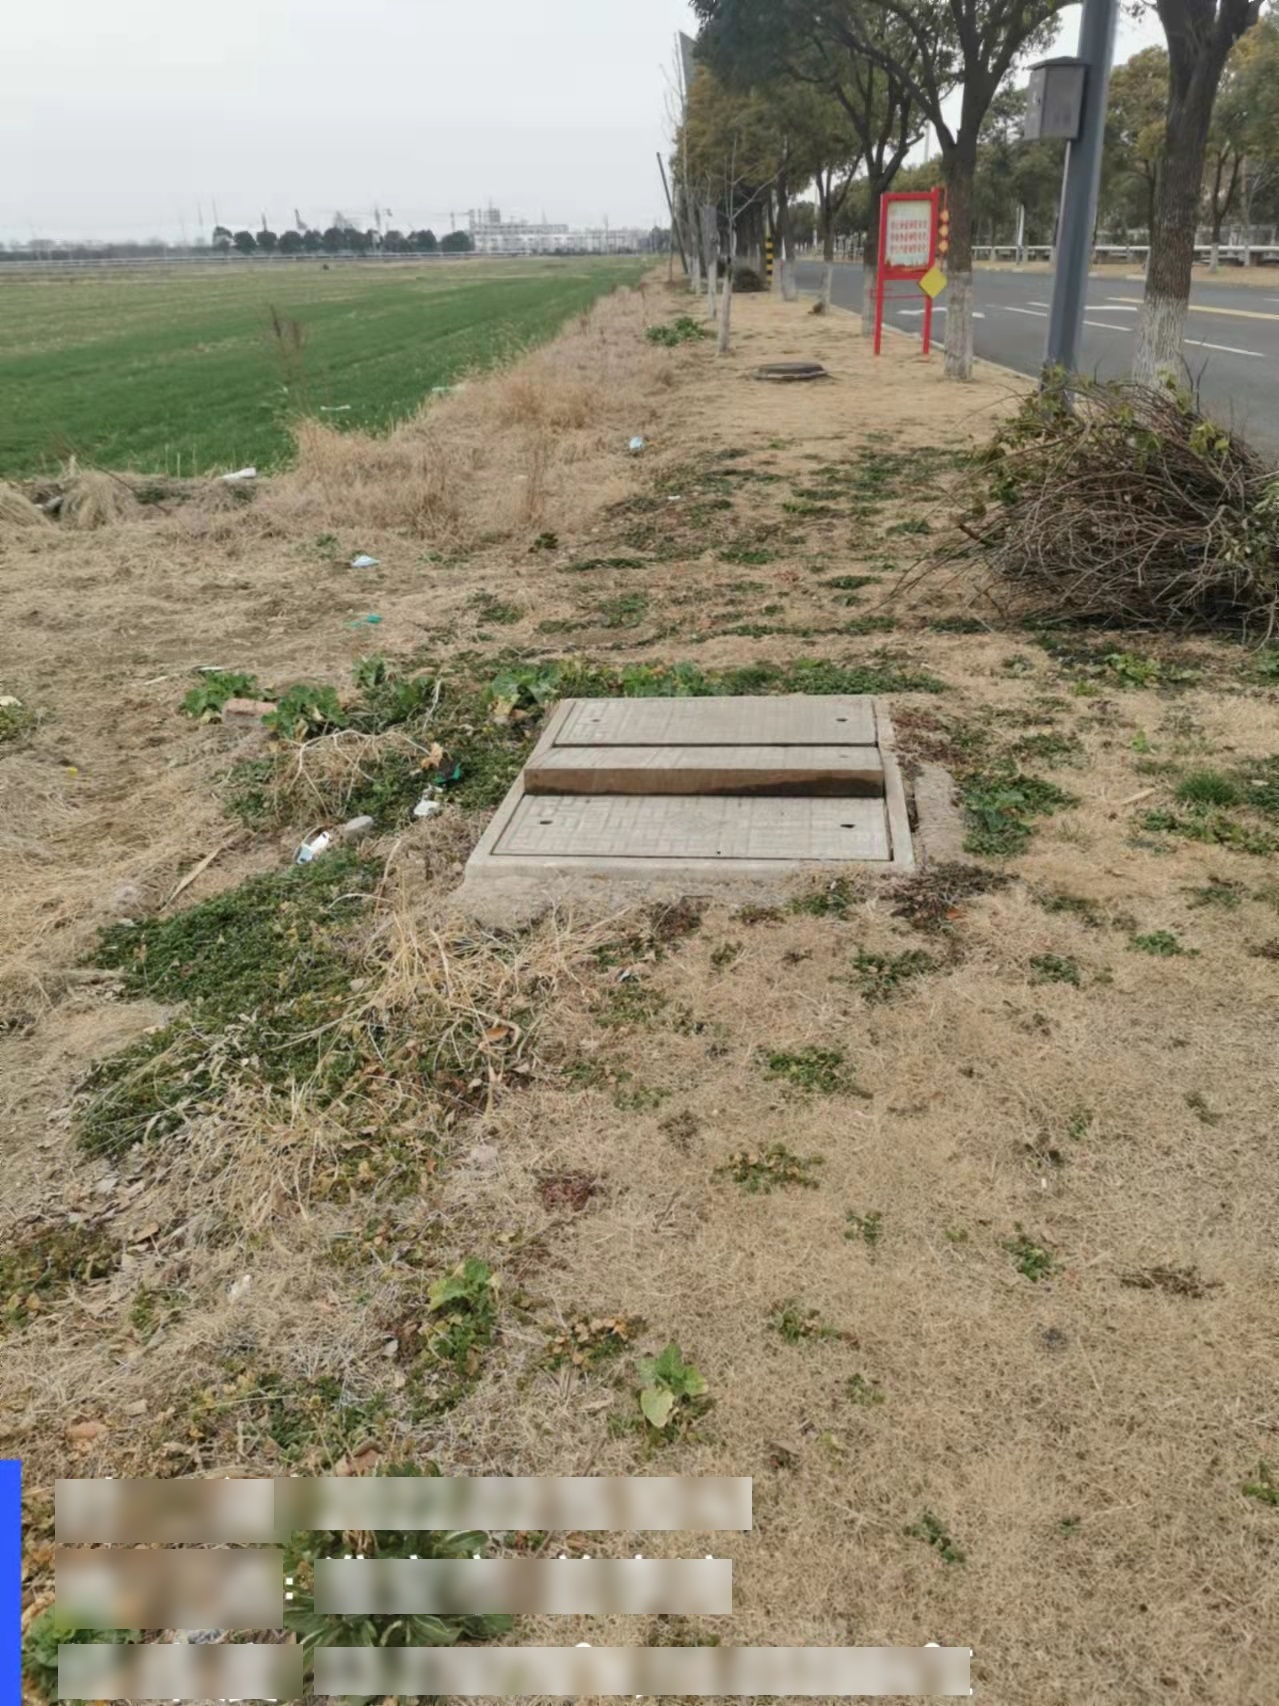uncovered: (476, 692, 912, 879)
